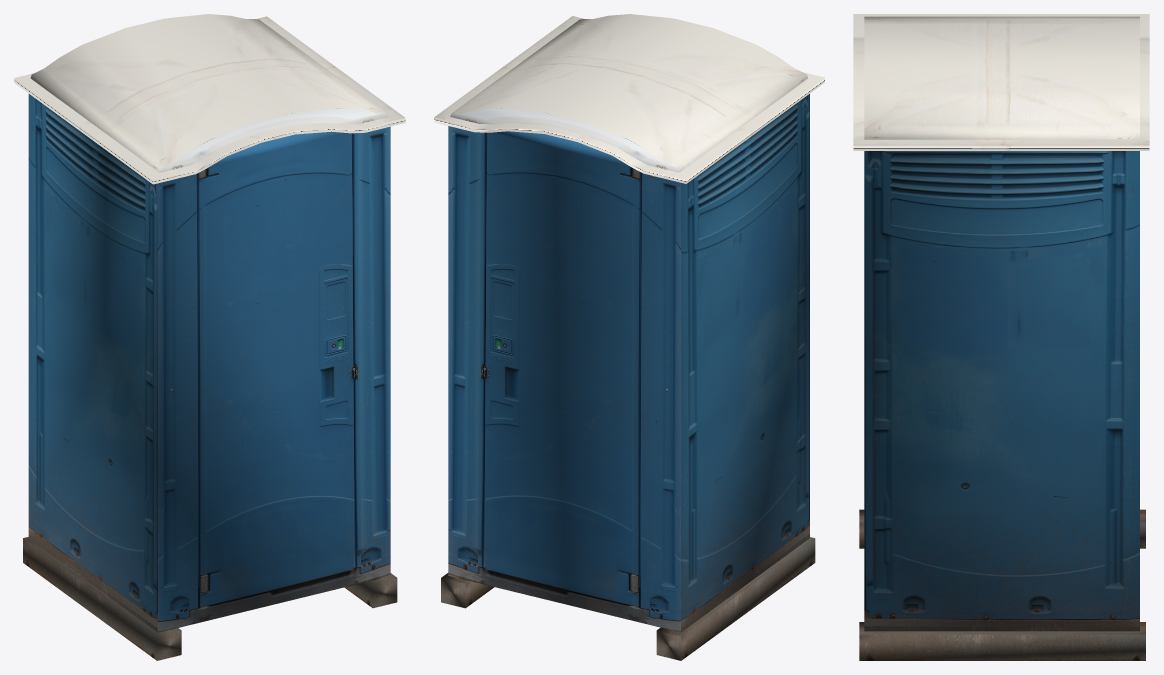
The model's file is portable_toilet.fbx.
3 renders of one model, left to right at view 1: azimuth 30°, elevation 25°; view 2: azimuth 150°, elevation 25°; view 3: azimuth 270°, elevation 25°, orthographic. The views are drawn at different scales.
Parts seen in each view (by area): view 1: Mesh, Mesh (2); view 2: Mesh, Mesh (2); view 3: Mesh, Mesh (2).
Boxes of the visible parts, x1,y1,x2,y2 form: Mesh: (23, 14, 397, 660); Mesh (2): (14, 16, 405, 184); Mesh: (441, 14, 815, 660); Mesh (2): (434, 16, 824, 183); Mesh: (859, 16, 1145, 660); Mesh (2): (853, 14, 1149, 150).
Bounding box in the file's own units: 515 × 999 × 490.
2 materials, 2 textured.
